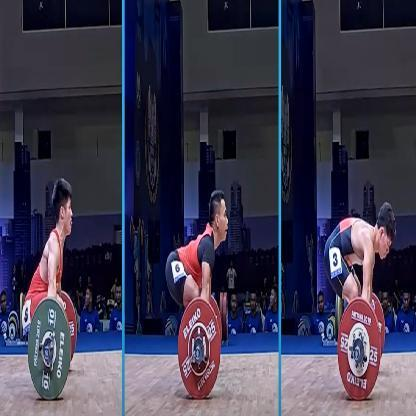barbell: (27, 288, 80, 403), (337, 291, 387, 402), (177, 292, 224, 402)
